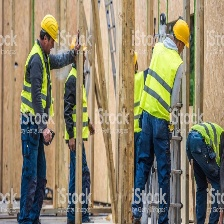helmet: (42, 14, 60, 44), (172, 19, 189, 46)
person: (134, 18, 188, 224), (18, 16, 58, 224)
vest: (141, 42, 183, 119), (22, 44, 54, 120)
